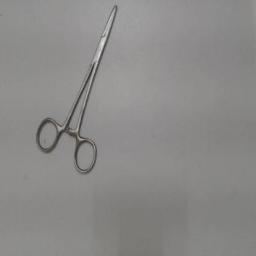Mayo Needle Holder: (30, 0, 122, 180)
